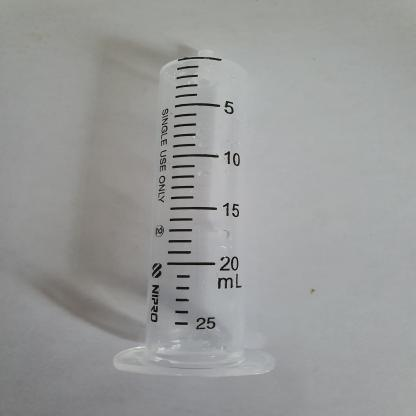wet: (120, 49, 273, 376)
